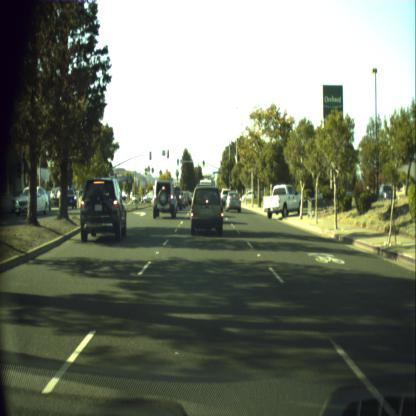Green: (176, 158, 178, 165), (202, 160, 204, 166)
